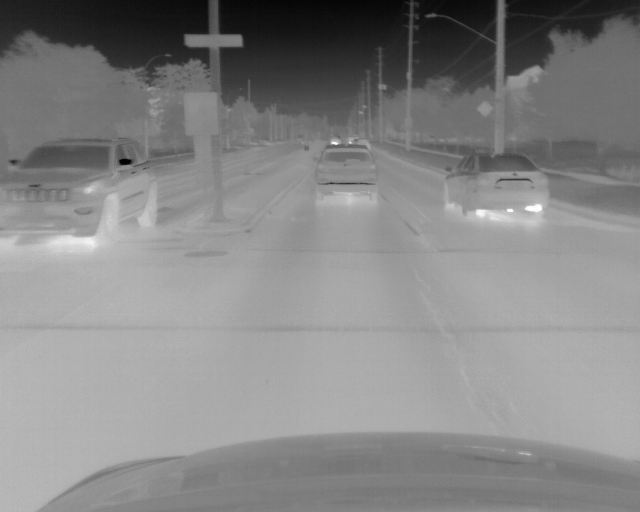car: (1, 138, 160, 251), (441, 153, 551, 222), (313, 145, 377, 203)
